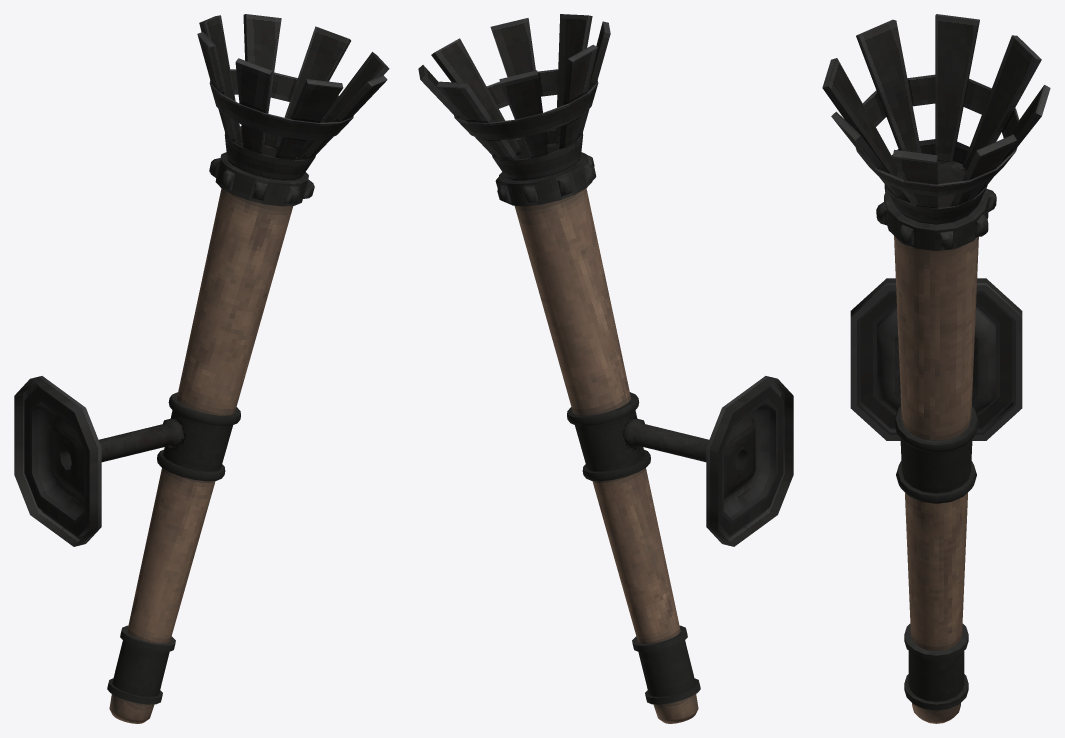
The model's file is tocha.glb.
3 renders of one model, left to right at view 1: azimuth 30°, elevation 25°; view 2: azimuth 150°, elevation 25°; view 3: azimuth 270°, elevation 25°, orthographic. The views are drawn at different scales.
Visible parts, largest first — view 1: tocha; view 2: tocha; view 3: tocha.
Boxes of the visible parts, x1,y1,x2,y2 form: tocha: (14,14,389,723); tocha: (418,14,793,723); tocha: (822,14,1050,723).
Bounding box in the file's own units: 30.24 × 58.3 × 16.1.
Materials: 1 (1 with a texture image).
